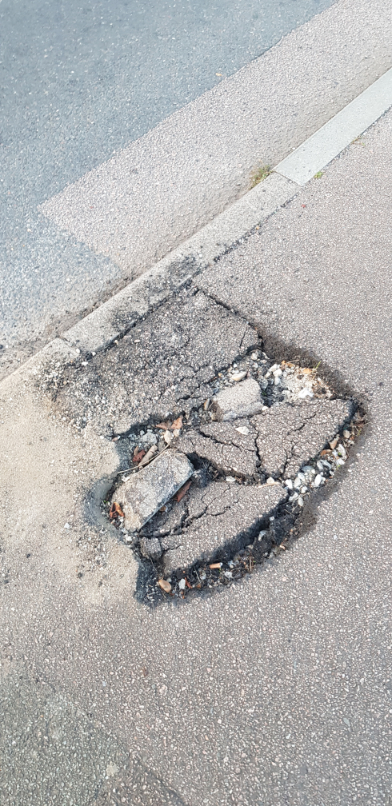pothole: (40, 277, 374, 615)
